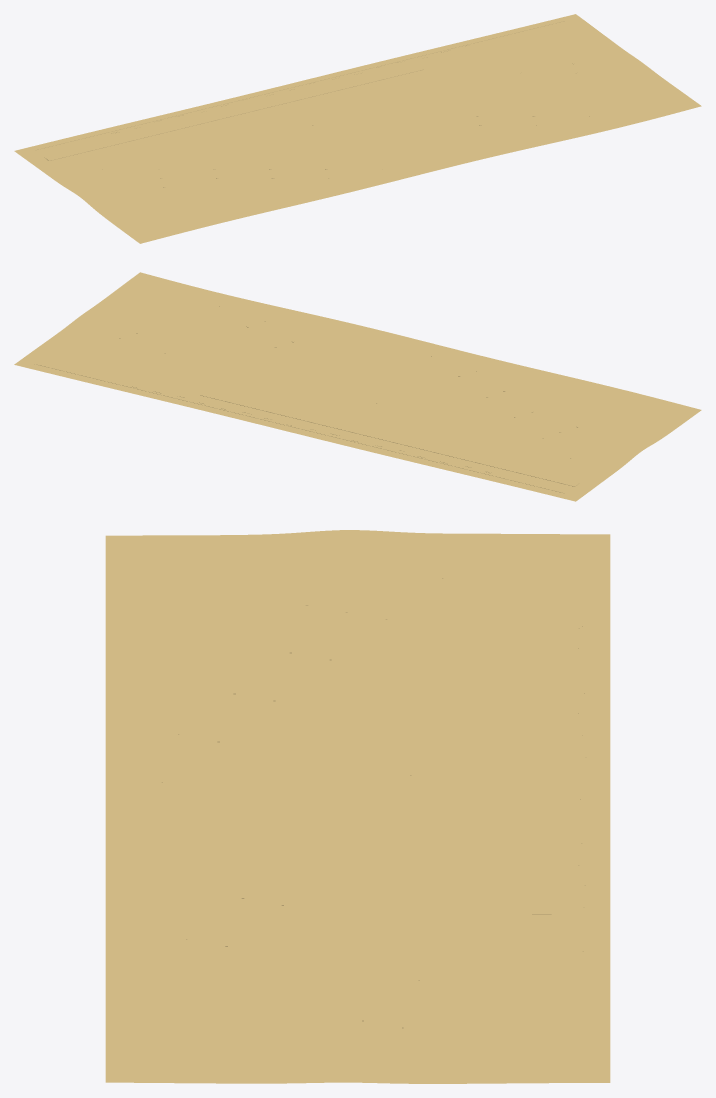
File: paradise-shoreline.glb
The picture shows the model from 3 angles, top to bottom: view 1: azimuth 30°, elevation 25°; view 2: azimuth 150°, elevation 25°; view 3: azimuth 270°, elevation 25°; orthographic projection. The views are drawn at different scales.
Parts seen in each view (by area): view 1: paradise-shoreline-authored-glb; view 2: paradise-shoreline-authored-glb; view 3: paradise-shoreline-authored-glb.
Part boxes in pixels (x1,y1,x2,y2): paradise-shoreline-authored-glb: (14,14,701,243); paradise-shoreline-authored-glb: (14,272,701,501); paradise-shoreline-authored-glb: (105,530,610,1083).
Size of the model in its own units: 72 by 0.595 by 28.
